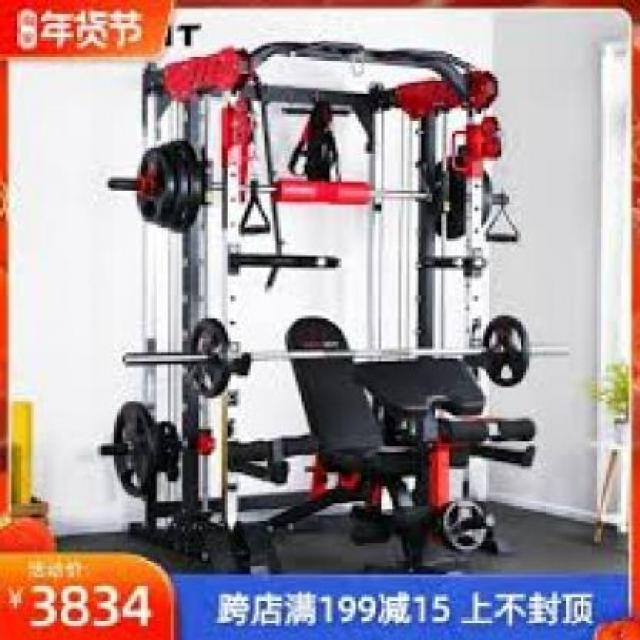smith machine: (142, 46, 538, 572)
